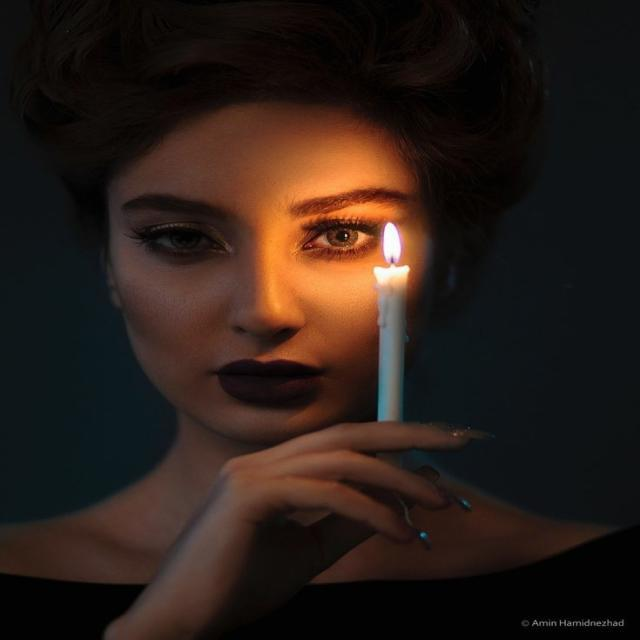Fire: (355, 208, 413, 299)
